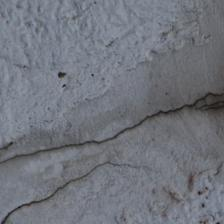Crack: (3, 91, 224, 169), (4, 160, 140, 223)
